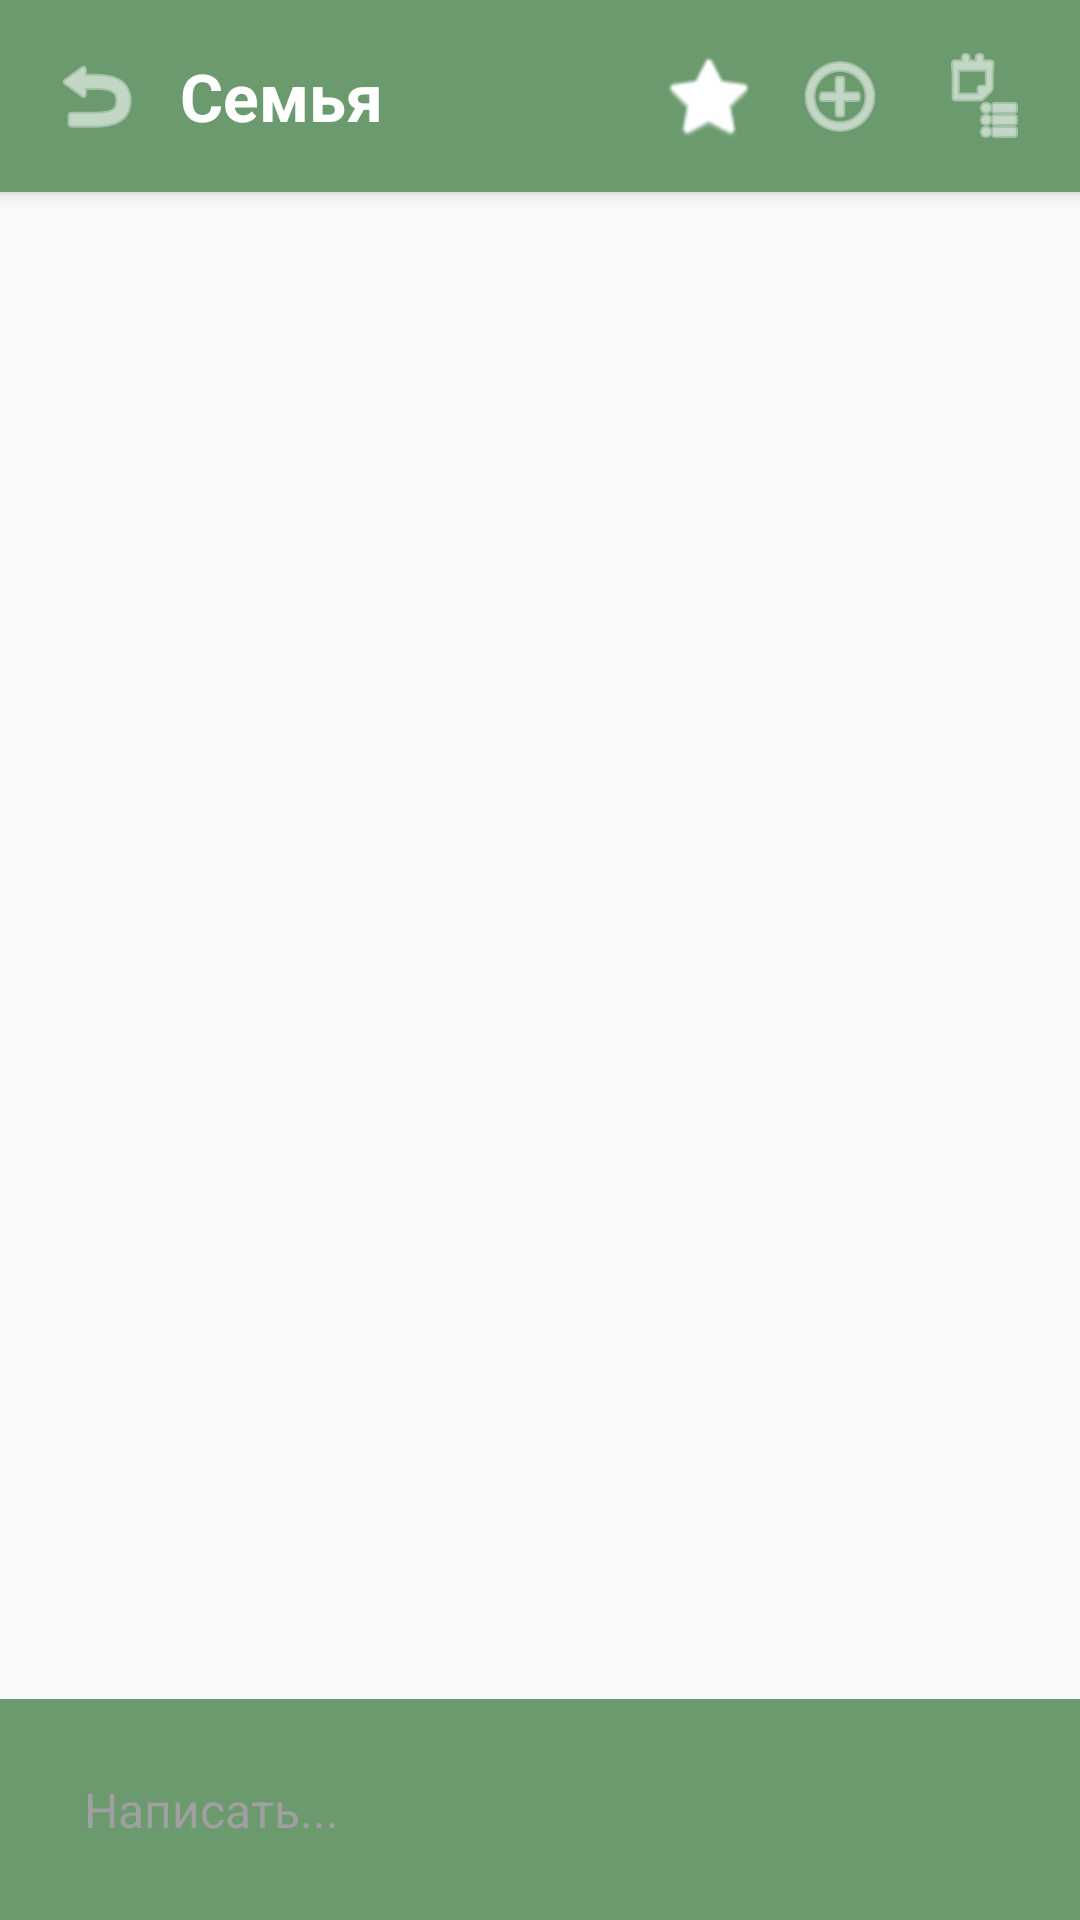

Icon click points for this 1080 × 1920 phone screenshot, format (x,y):
add: (840,96)
agenda: (984,95)
revert: (97,97)
star on: (709,96)
